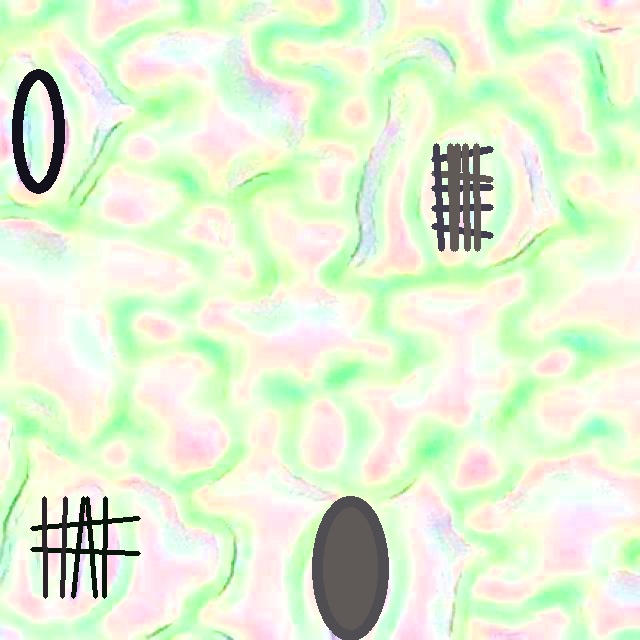open: (311, 495, 388, 640), (31, 497, 140, 598), (12, 69, 65, 194), (432, 143, 492, 251)
